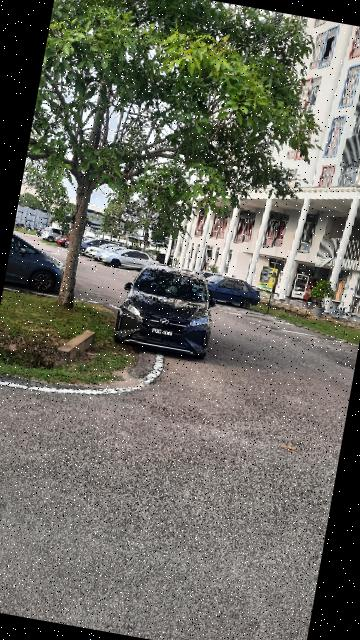License_Plate: (150, 326, 178, 341)
car: (111, 260, 223, 363), (196, 268, 265, 315)
